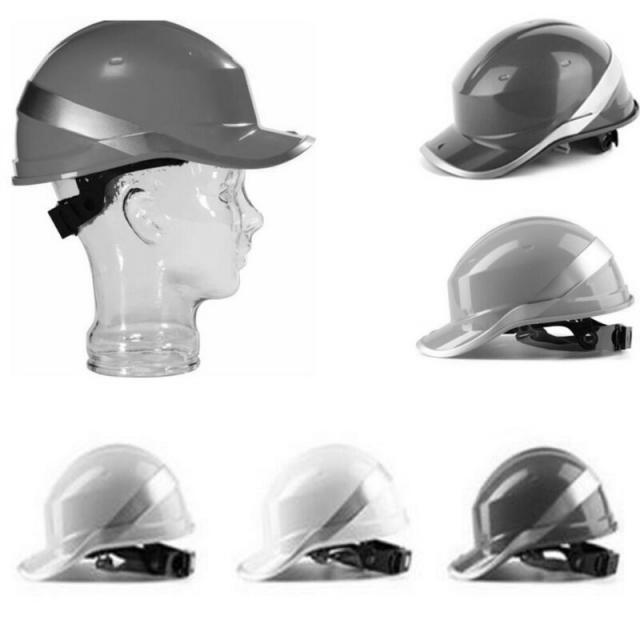safety_helmet: (118, 48, 477, 344), (122, 344, 468, 510), (415, 216, 635, 362), (468, 18, 638, 181), (448, 446, 622, 584)
